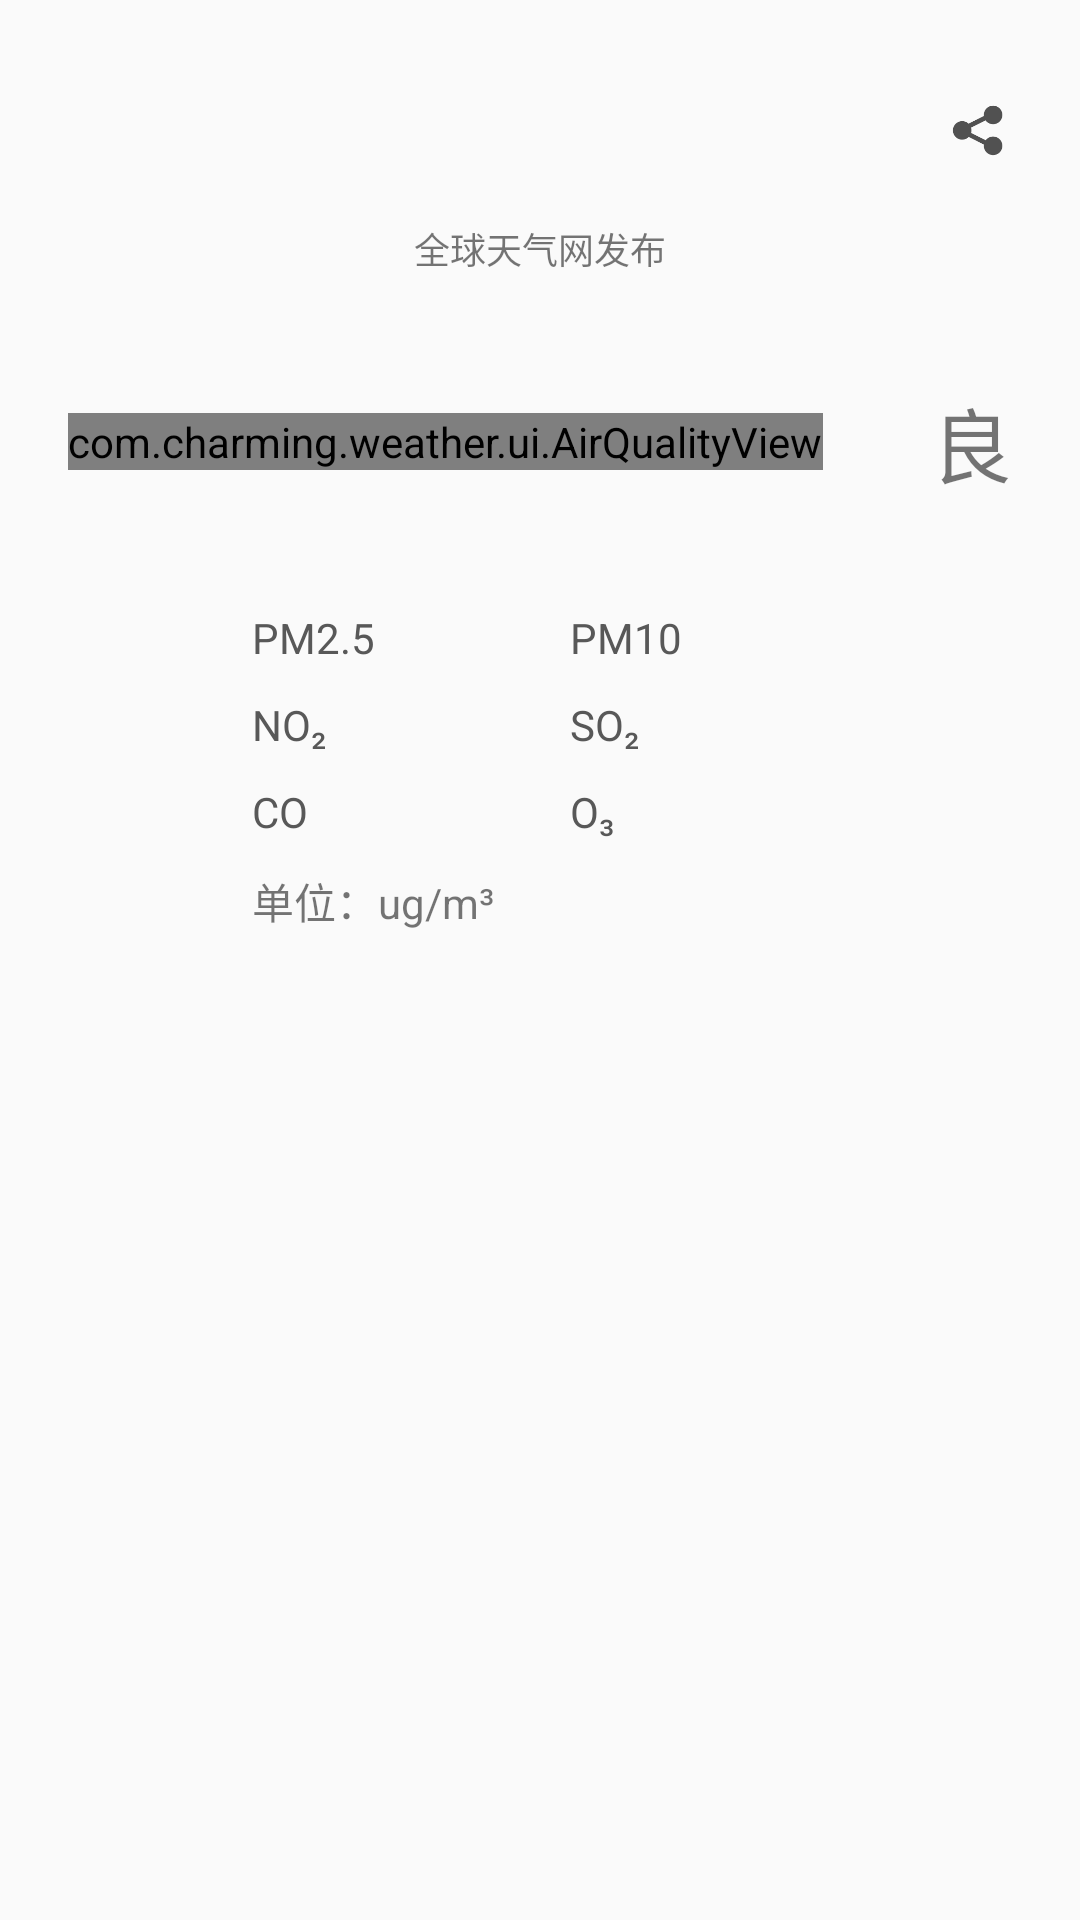

Screen size 1080w x 1920h. Icon name, then its box in pixels as (x1, y1, x2, y2):
share: (953, 106, 1003, 155)
